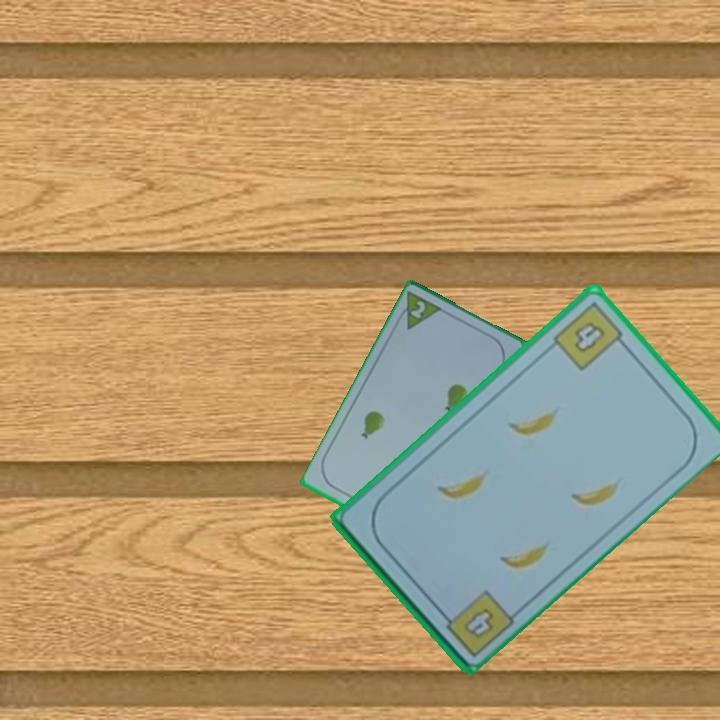2p: (407, 297, 429, 322)
4b: (548, 298, 630, 374), (435, 586, 517, 660)
